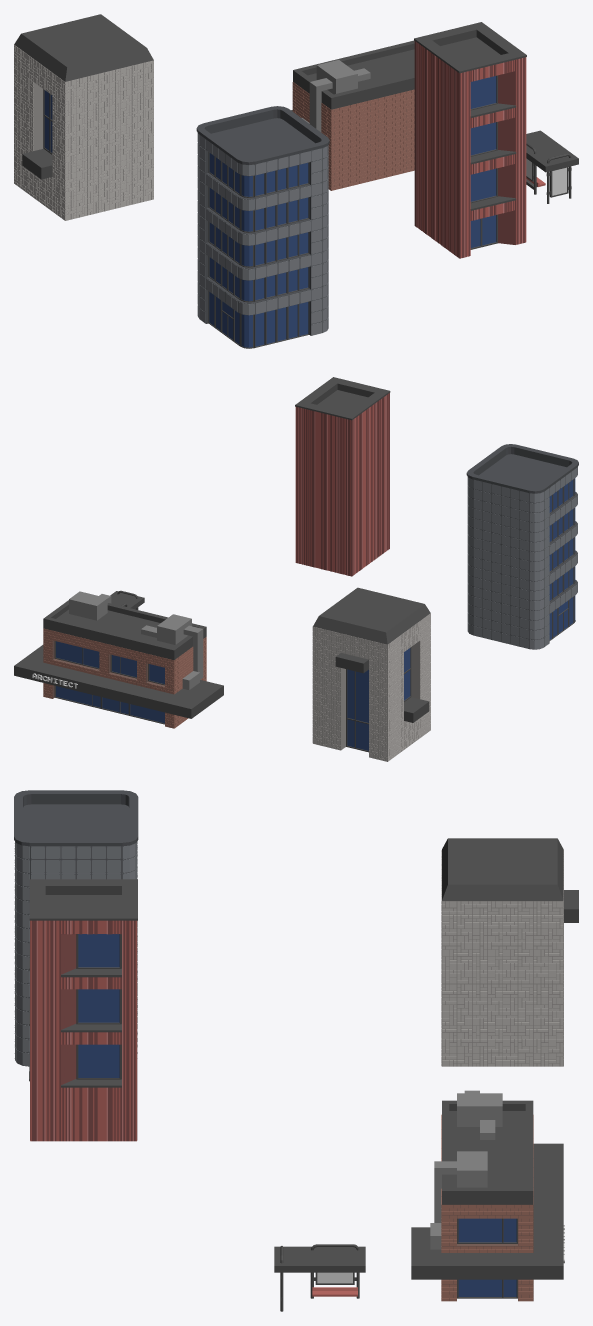
The model's file is act-1-world.glb.
The picture shows the model from 3 angles, top to bottom: view 1: azimuth 30°, elevation 25°; view 2: azimuth 150°, elevation 25°; view 3: azimuth 270°, elevation 25°; orthographic projection. The views are drawn at different scales.
Parts seen in each view (by area): view 1: base.001, Cube.974, base, Cube.1000, roof, Cube.926, roof-2, Cube.1841, Cube.287, Cube.1006, Cube.1008, Cube.1005 (+10 smaller); view 2: base.001, Cube.975, Cube.974, Cube.1000, roof-1, base, roof-2, roof, Cube.1003, Cube.309, Cube.298, Cube.965 (+8 smaller); view 3: base.001, Cube.994, base, roof-1, roof, roof-2, Cube.1000, Cube.287, Cube.965, Cube.298, Cube.297, Cube.309 (+6 smaller).
Part boxes in pixels (box(x1,y1,x2,y2)): base.001: box(417, 31, 526, 258); Cube.974: box(414, 41, 459, 258); base: box(14, 44, 153, 220); Cube.1000: box(198, 112, 326, 335); roof: box(14, 14, 153, 81); Cube.926: box(459, 57, 525, 258); roof-2: box(293, 40, 414, 109); Cube.1841: box(208, 291, 309, 348); Cube.287: box(526, 130, 578, 203); Cube.1006: box(208, 221, 309, 267); Cube.1008: box(208, 152, 309, 197); Cube.1005: box(208, 187, 309, 232); base.001: box(295, 385, 388, 575); Cube.975: box(296, 407, 351, 576); Cube.974: box(352, 393, 389, 576); Cube.1000: box(469, 449, 577, 649); roof-1: box(14, 645, 223, 718); base: box(313, 616, 430, 761); roof-2: box(43, 600, 206, 659); roof: box(313, 587, 430, 644); Cube.1003: box(346, 669, 368, 752); Cube.309: box(141, 614, 203, 690); Cube.298: box(466, 444, 578, 493); Cube.965: box(295, 377, 390, 420); base.001: box(30, 888, 136, 1141); Cube.994: box(32, 920, 135, 1141); base: box(442, 901, 563, 1066); roof-1: box(411, 1143, 563, 1279); roof: box(442, 838, 563, 900); roof-2: box(442, 1100, 533, 1204); Cube.1000: box(17, 797, 135, 1066); Cube.287: box(274, 1244, 365, 1311); Cube.965: box(29, 879, 137, 920); Cube.298: box(14, 790, 138, 846); Cube.297: box(430, 1151, 487, 1249); Cube.309: box(457, 1090, 502, 1139).
Size of the model in its own units: 41 by 22.15 by 37.08.
Materials: 14 (1 with a texture image).
